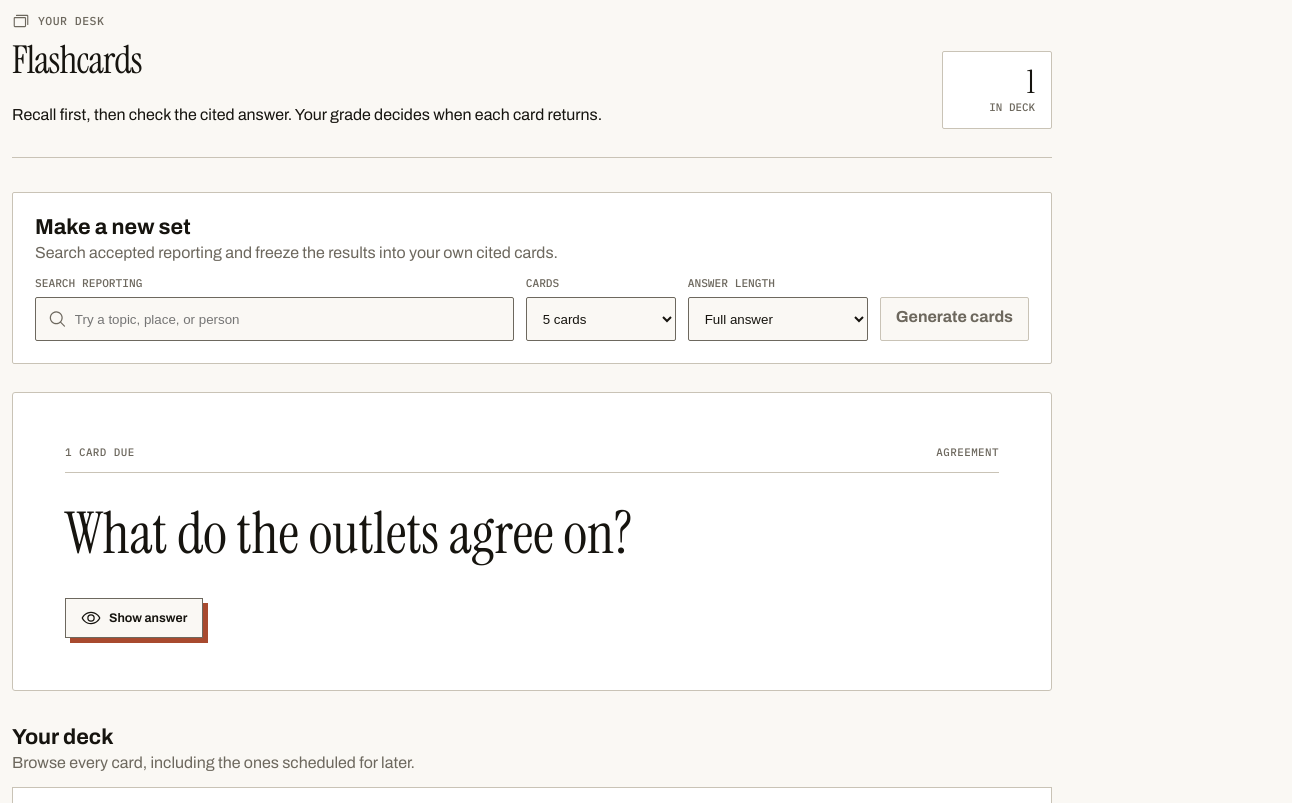
Test: Study flashcards › keeps the cited answer hidden until recall, then records the outcome
Expected: the text "What do the outlets agree on?" is shown, left=65, top=496, right=632, bottom=571
Expected: the text "The pilot line targets production in 2027." is not shown
Click the button "Show answer" at (134, 618), box left=65, top=598, right=203, bottom=638
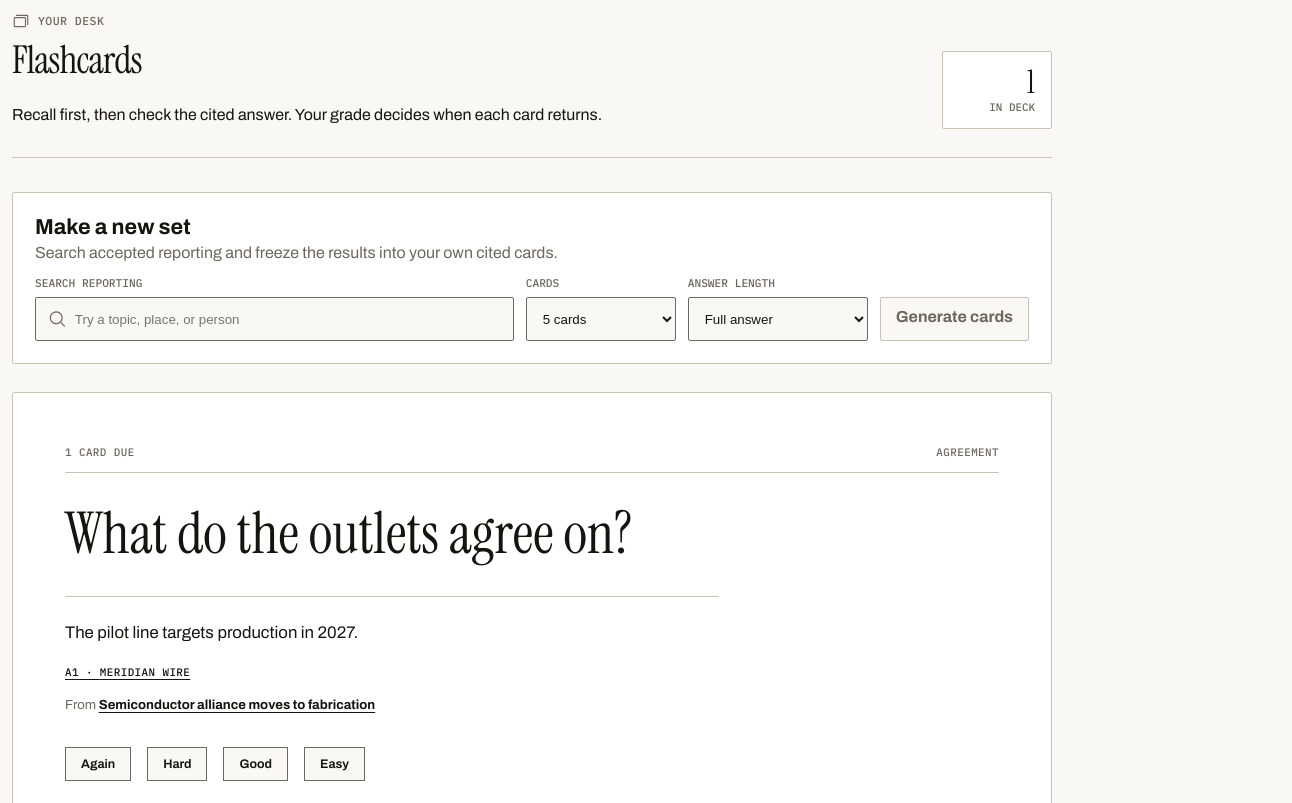
Result: the text "The pilot line targets production in 2027." is shown at left=65, top=596, right=719, bottom=646
Click the button "Good" at (256, 764), box left=224, top=747, right=288, bottom=781
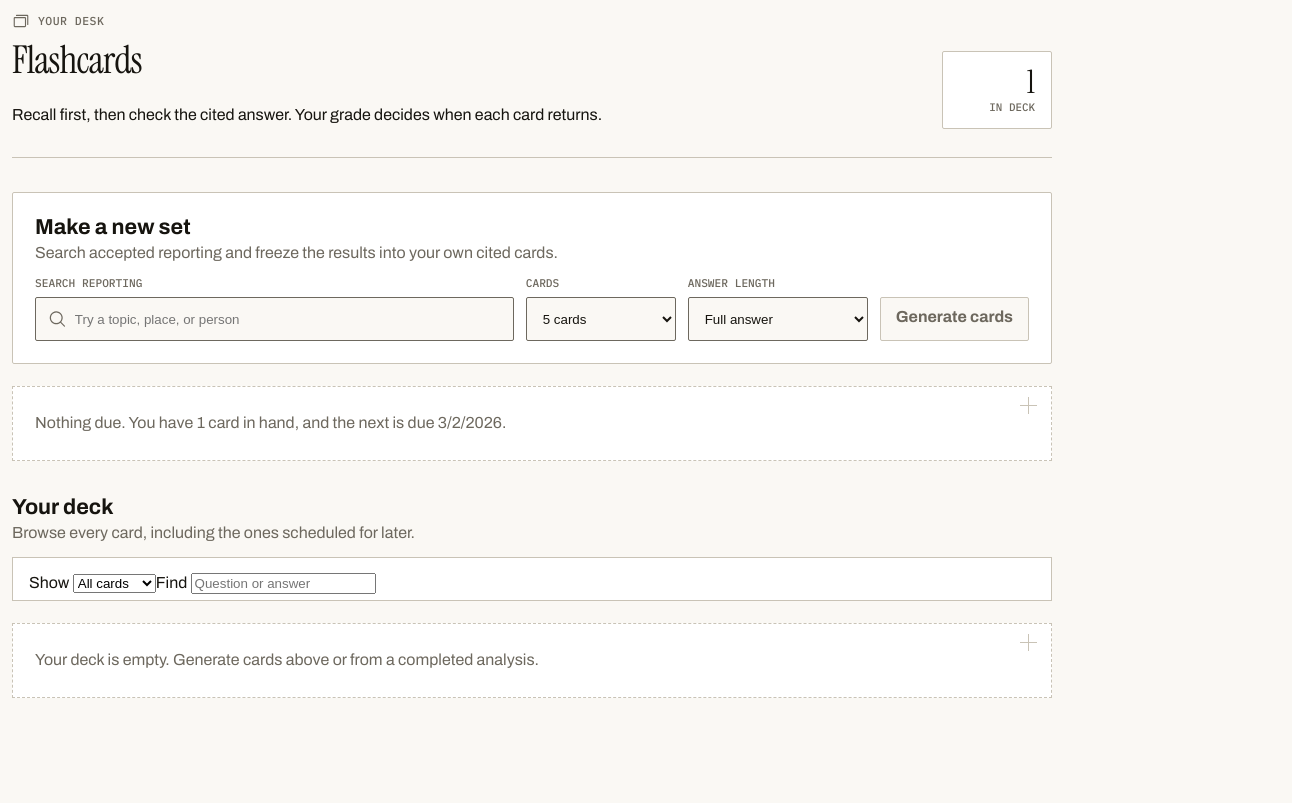
Result: the text "Nothing due" is shown at left=35, top=414, right=197, bottom=431
